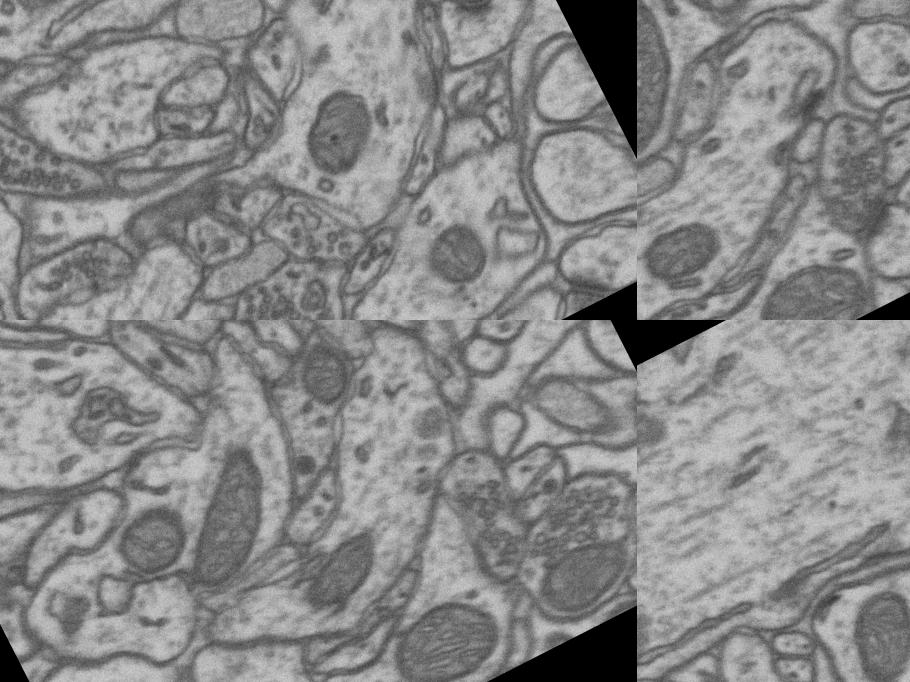mitochondria: (149, 433, 310, 600), (374, 579, 520, 682), (278, 75, 398, 196), (278, 519, 400, 627), (520, 526, 637, 633), (818, 562, 910, 682), (743, 240, 880, 320), (102, 490, 207, 591), (404, 209, 508, 310), (637, 0, 706, 150), (278, 322, 370, 422), (637, 207, 730, 298)
